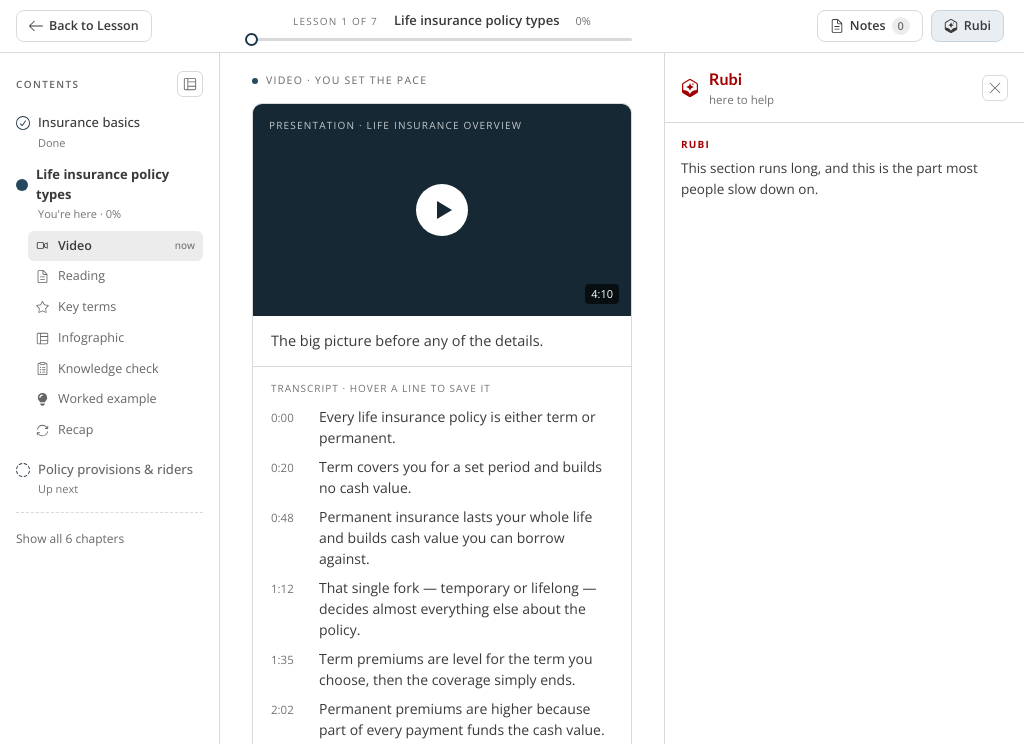
Scenario: the Compass session › OFF `compass-check-confidence`: explains the answer either way round
Click the button "Knowledge check". click: (116, 369)
box: [28,354,203,384]
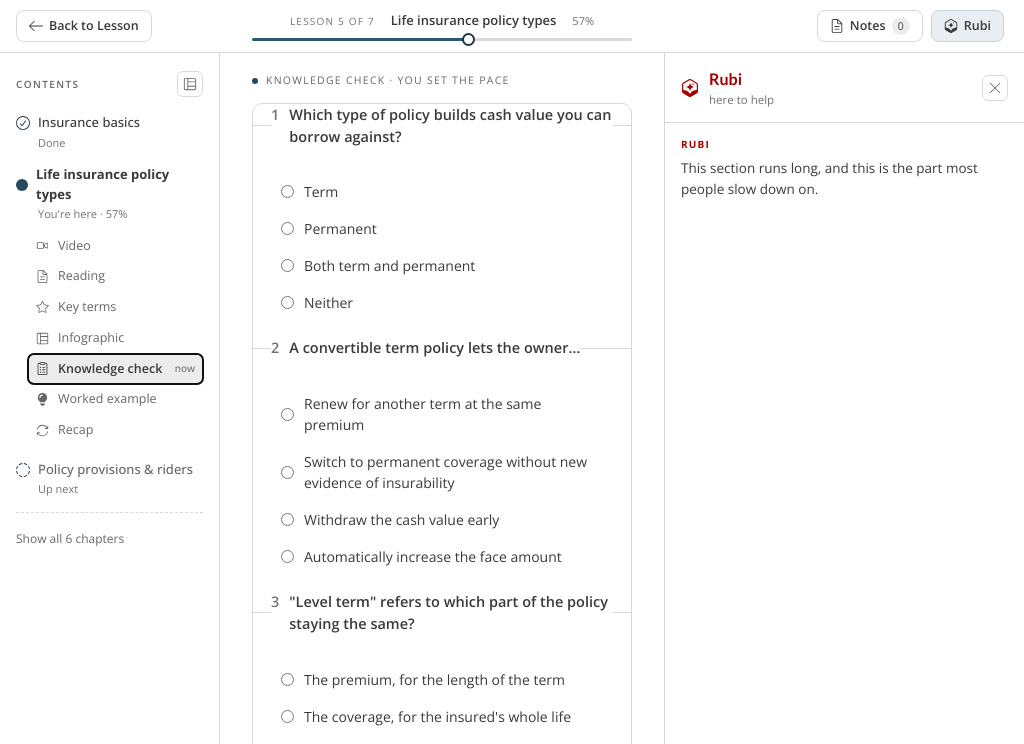
Expected: the text "Only permanent policies build cash value" is not shown
Click the radio button labelled "Permanent". click: (288, 229)
box: [281,222,294,235]
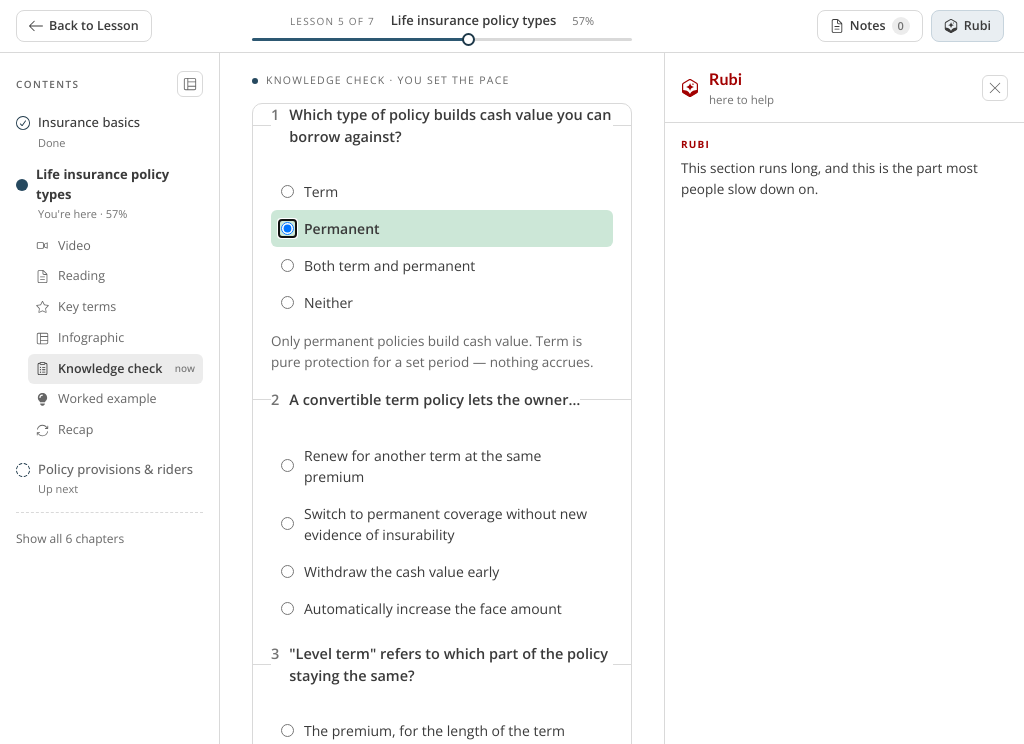
Result: the text "Only permanent policies build cash value" is shown at [271,332,594,371]
